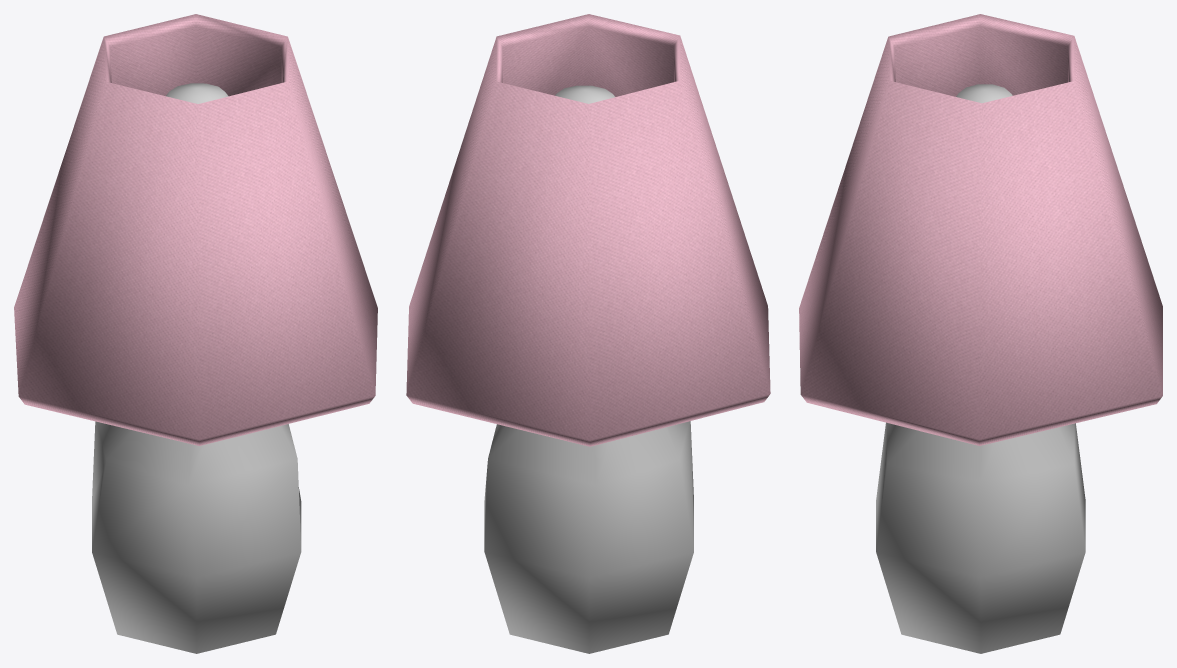
File: Small_Lamp_A.FBX
The picture shows the model from 3 angles, left to right: view 1: azimuth 30°, elevation 25°; view 2: azimuth 150°, elevation 25°; view 3: azimuth 270°, elevation 25°; orthographic projection.
Parts seen in each view (by area): view 1: Kid's Lamp; view 2: Kid's Lamp; view 3: Kid's Lamp.
Part boxes in pixels (x1,y1,x2,y2): Kid's Lamp: [14, 14, 377, 653]; Kid's Lamp: [406, 14, 770, 653]; Kid's Lamp: [799, 14, 1162, 653].
Size of the model in its own units: 68.11 by 100 by 59.49.
